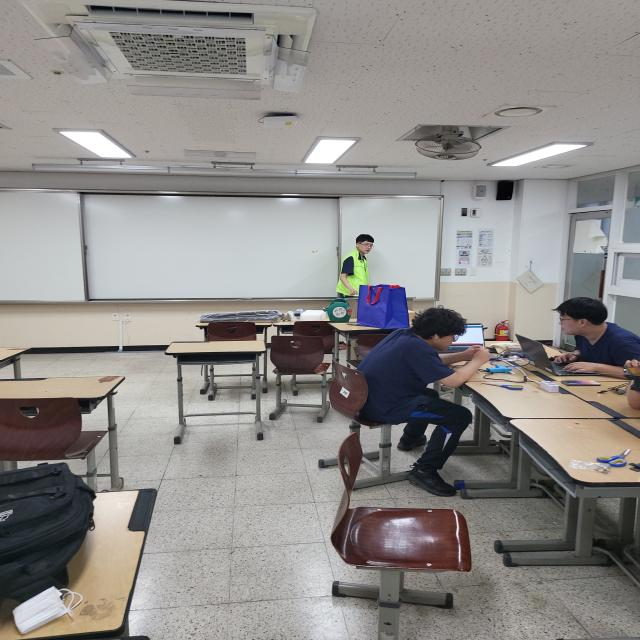weston_spy: (333, 246, 378, 303)
